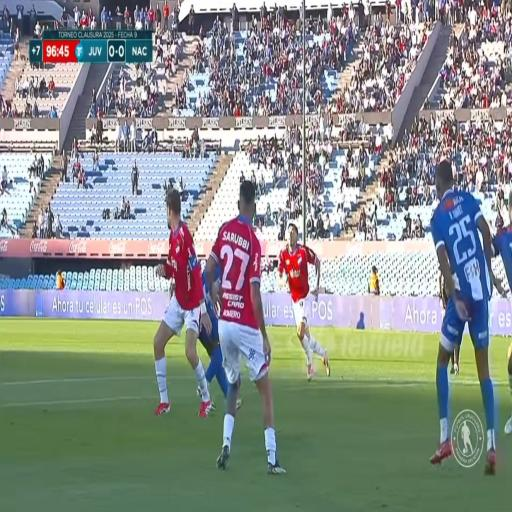Player: (422, 150, 498, 465), (153, 184, 205, 405), (220, 180, 258, 470), (190, 225, 237, 412), (284, 222, 327, 377)
